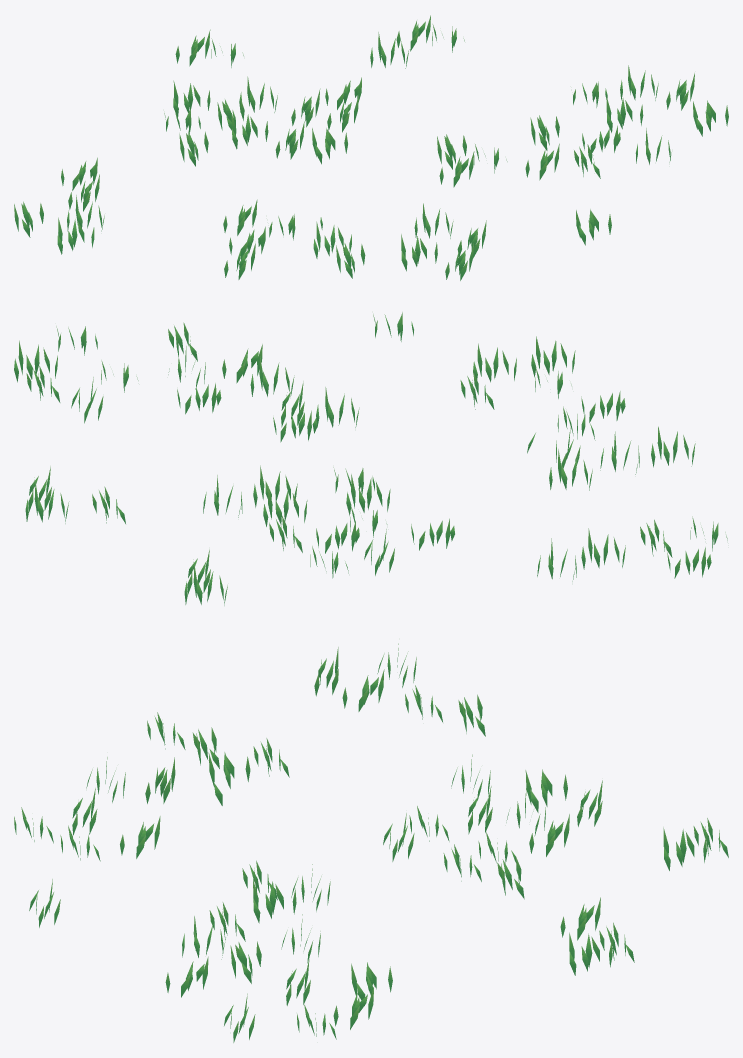
Rendered from plants_un_main_grass_set01_02.gltf.
3 renders of one model, top to bottom at view 1: azimuth 30°, elevation 25°; view 2: azimuth 150°, elevation 25°; view 3: azimuth 270°, elevation 25°, orthographic. The views are drawn at different scales.
Visible parts, largest first — view 1: plants_un_main_grass_set01_02_mesh_shape:plants_un_main_gras; view 2: plants_un_main_grass_set01_02_mesh_shape:plants_un_main_gras; view 3: plants_un_main_grass_set01_02_mesh_shape:plants_un_main_gras.
Boxes of the visible parts, <box> form: plants_un_main_grass_set01_02_mesh_shape:plants_un_main_gras: <box>14,15,728,280</box>; plants_un_main_grass_set01_02_mesh_shape:plants_un_main_gras: <box>14,312,727,605</box>; plants_un_main_grass_set01_02_mesh_shape:plants_un_main_gras: <box>14,643,728,1042</box>.
Size of what is drawn, in the model's own units: 9.09 by 0.4196 by 7.36.
Materials: 1 (1 with a texture image).
